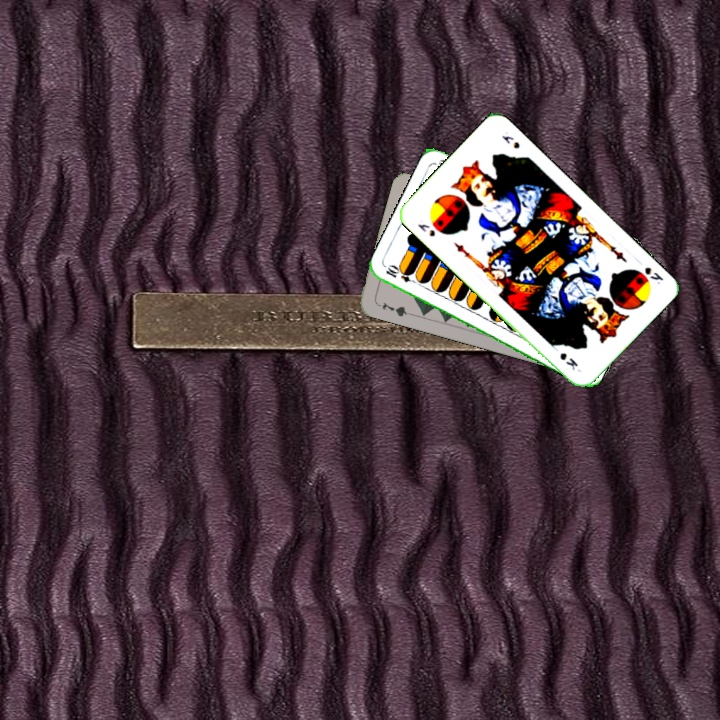E10: (381, 262, 421, 287)
G7: (373, 298, 413, 319)
SK: (641, 263, 666, 287), (414, 220, 438, 239)
